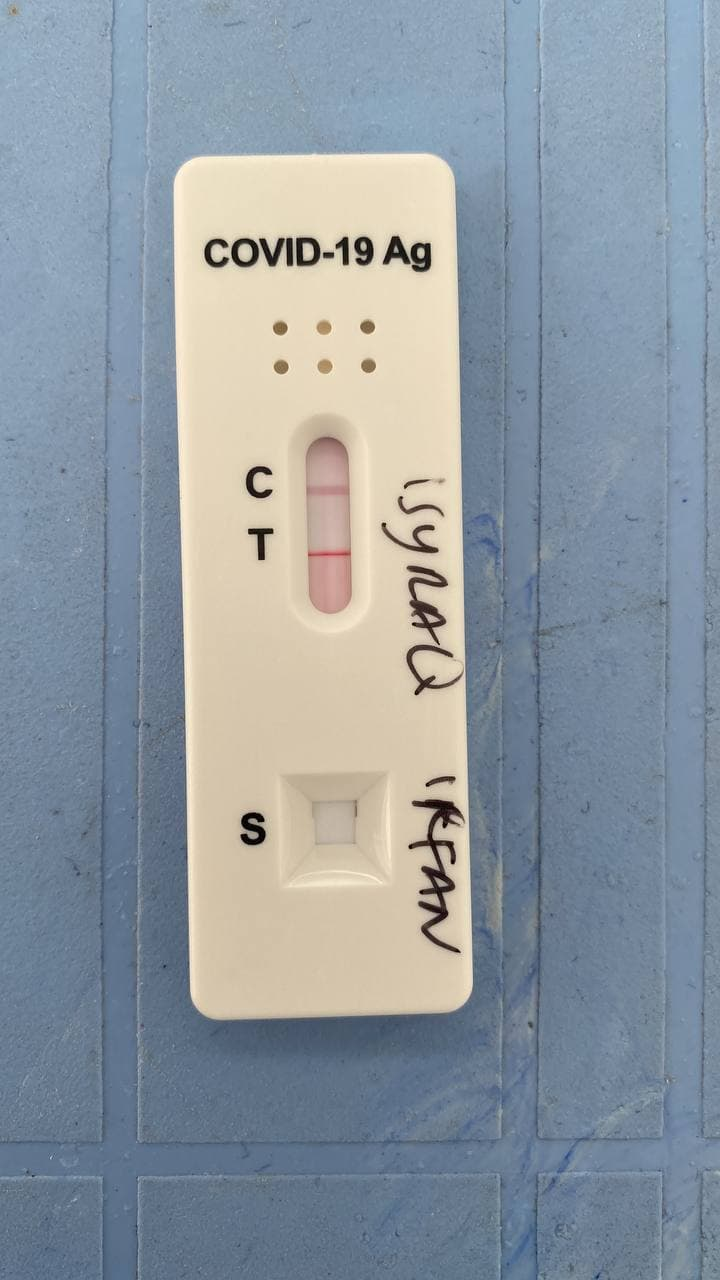rapid_test: (173, 149, 458, 1018)
